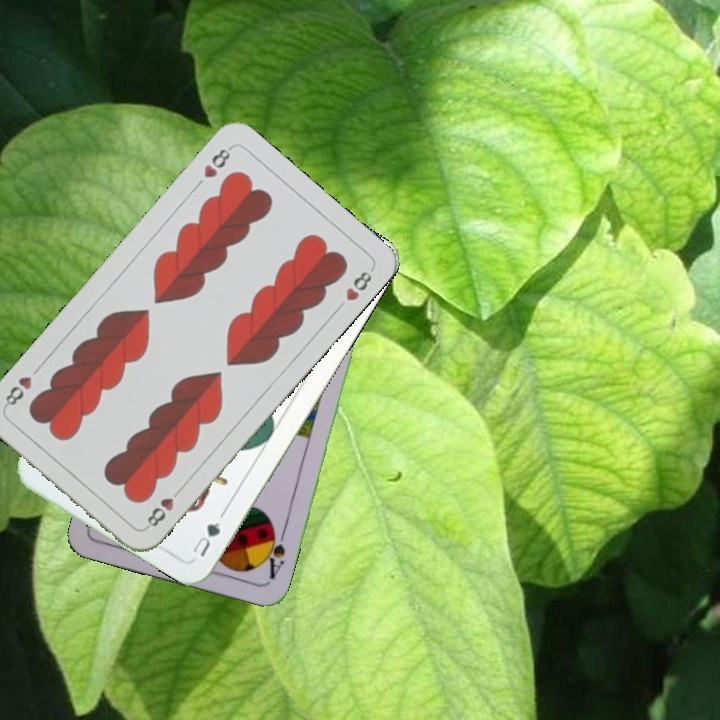GU: (188, 518, 223, 560)
H8: (141, 483, 185, 532), (199, 142, 235, 181)
SA: (259, 524, 288, 582)
